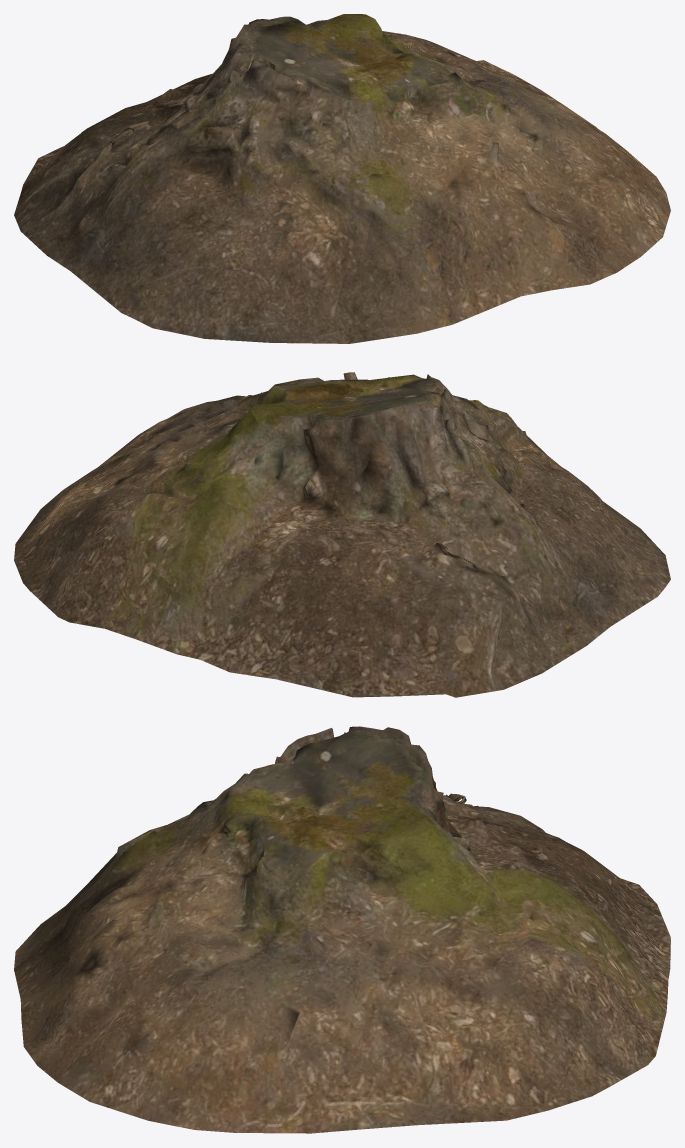
File: tree_stump_02.glb
3 views of the same model, one above another, from view 1: azimuth 30°, elevation 25°; view 2: azimuth 150°, elevation 25°; view 3: azimuth 270°, elevation 25° (orthographic). The views are drawn at different scales.
Parts seen in each view (by area): view 1: tree_stump_02; view 2: tree_stump_02; view 3: tree_stump_02.
Part boxes in pixels (x1=…): tree_stump_02: x1=14, y1=14, x2=670, y2=343; tree_stump_02: x1=14, y1=372, x2=670, y2=697; tree_stump_02: x1=14, y1=726, x2=670, y2=1133.
Bounding box in the file's own units: 1.52 × 0.5196 × 1.39.
Materials: 1 (1 with a texture image).
